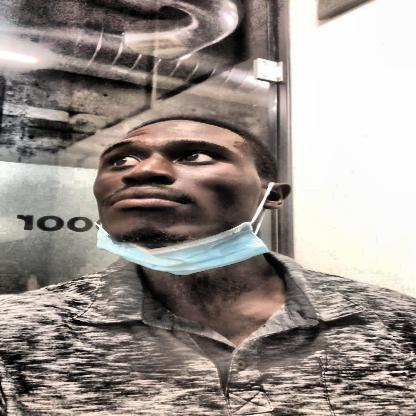not_wear: (85, 116, 295, 270)
